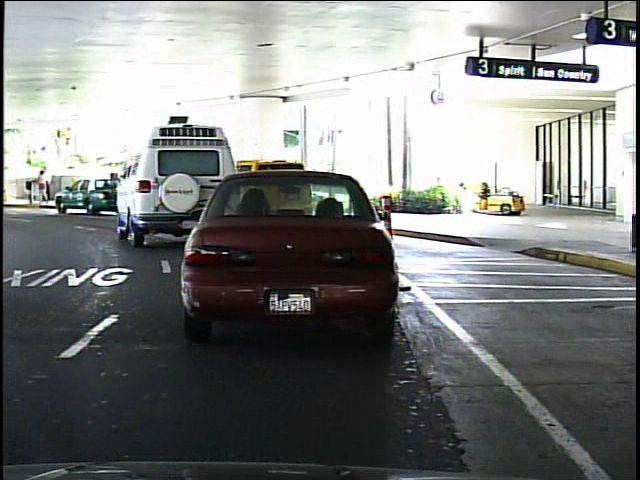person: (34, 167, 51, 206), (42, 163, 55, 204)
